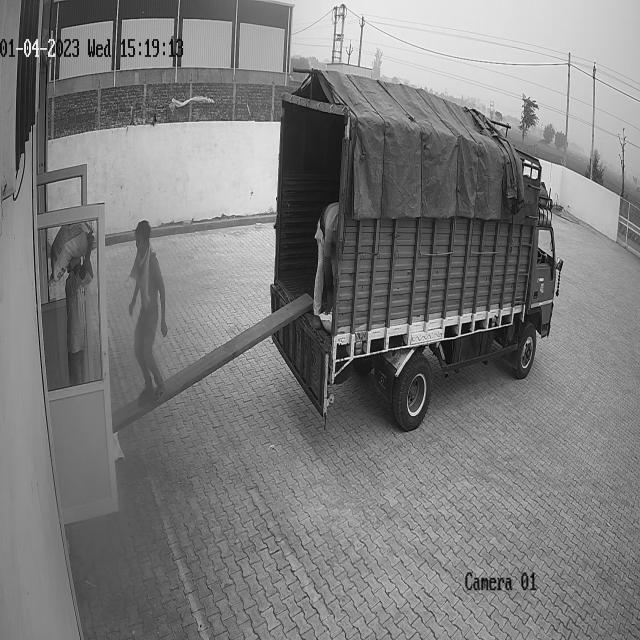sack: (48, 220, 95, 287)
